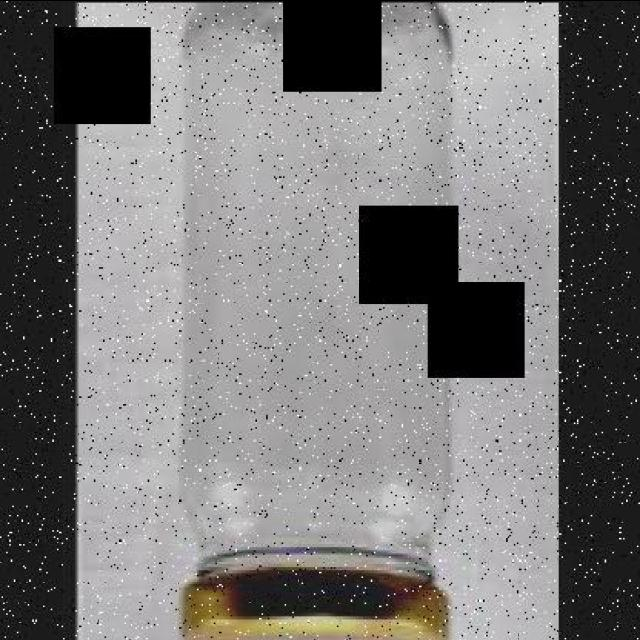glass: (170, 7, 475, 640)
